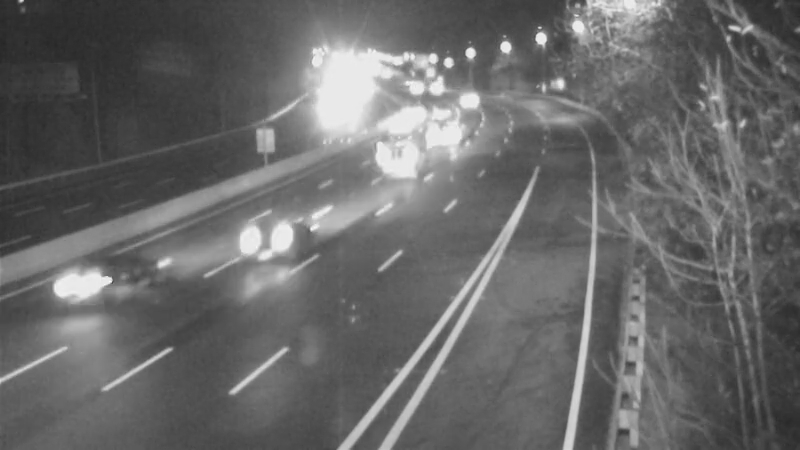vehicle: (361, 118, 441, 198), (228, 206, 308, 286), (45, 241, 125, 321), (411, 64, 461, 114), (387, 63, 437, 113), (446, 69, 496, 119), (414, 80, 464, 130), (391, 87, 441, 137), (376, 100, 426, 150), (411, 109, 461, 159), (307, 97, 357, 147)
